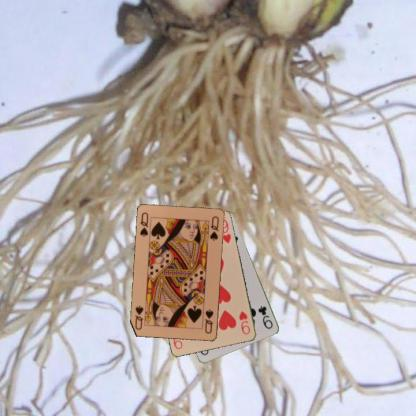9c: (256, 303, 274, 330)
9h: (236, 308, 252, 336)
Qs: (202, 307, 215, 335), (138, 210, 150, 238)
